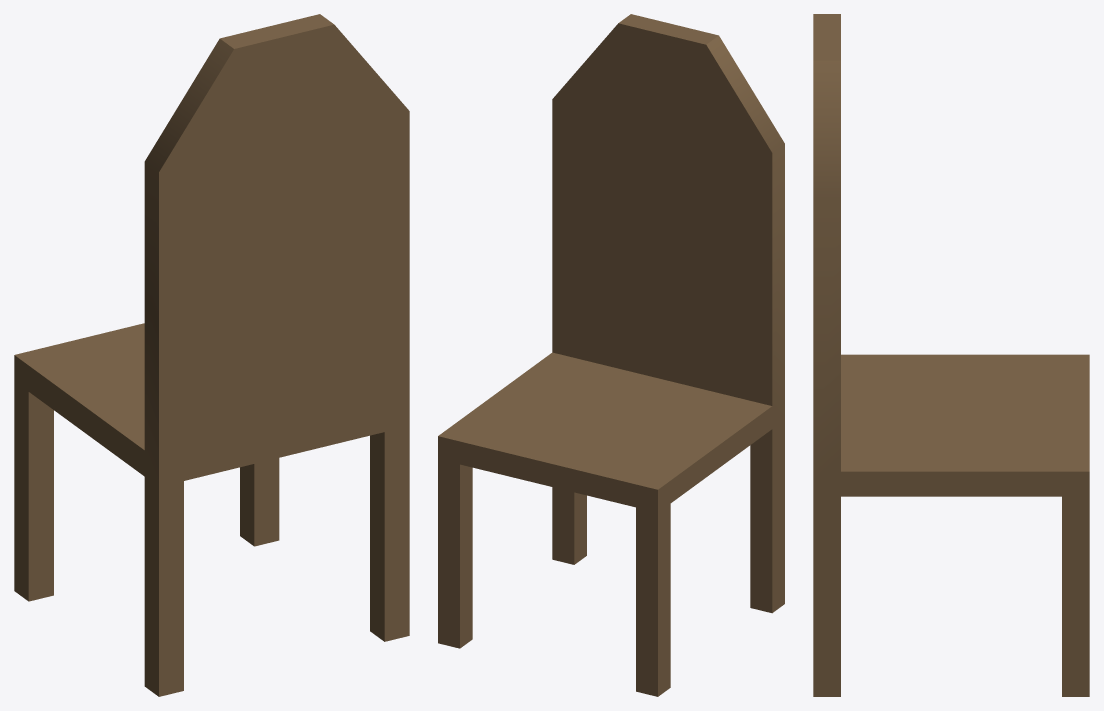
Rendered from chair01.fbx.
3 renders of one model, left to right at view 1: azimuth 30°, elevation 25°; view 2: azimuth 150°, elevation 25°; view 3: azimuth 270°, elevation 25°, orthographic. The views are drawn at different scales.
Parts seen in each view (by area): view 1: chair; view 2: chair; view 3: chair.
Part boxes in pixels (box(x1,y1,x2,y2)): chair: box(14, 14, 409, 696); chair: box(438, 14, 784, 696); chair: box(813, 14, 1089, 696).
Bounding box in the file's own units: 0.2 × 0.48 × 0.2.
